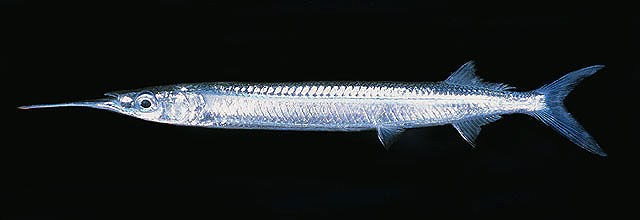fish: (20, 61, 609, 158)
